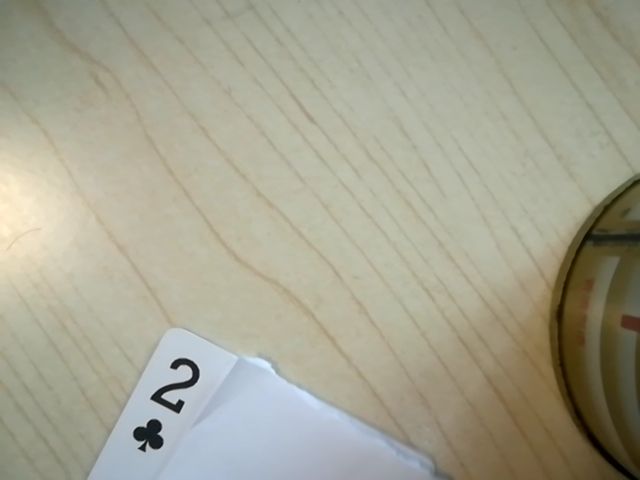mh 2: (121, 348, 216, 465)
